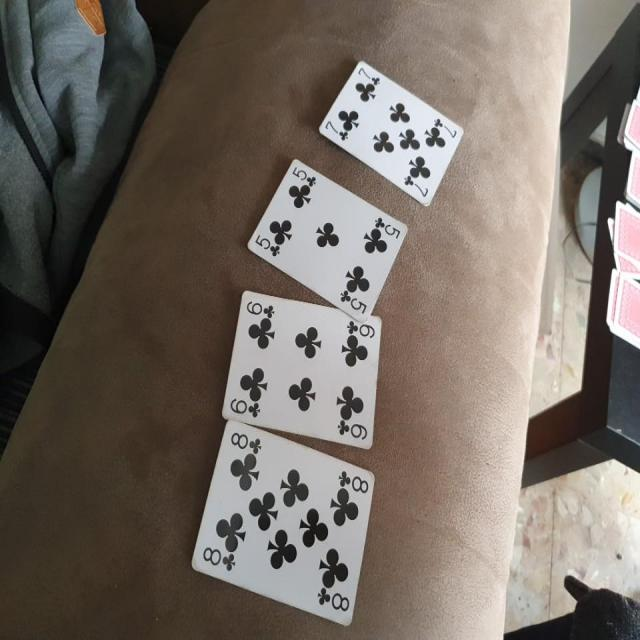5 Trefoils: (244, 158, 409, 324)
6 Trefoils: (219, 286, 383, 451)
7 Trefoils: (316, 58, 464, 209)
8 Trefoils: (192, 420, 376, 628)
